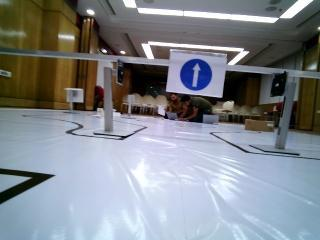straight: (168, 50, 224, 97)
